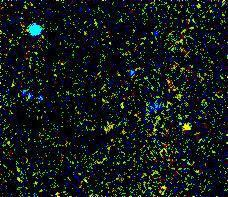star: (172, 113, 202, 143)
